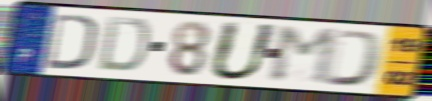8: (168, 20, 213, 79)
D: (323, 28, 386, 89), (96, 14, 153, 74), (43, 11, 98, 72)
M: (269, 26, 341, 88)
U: (206, 19, 281, 83)
